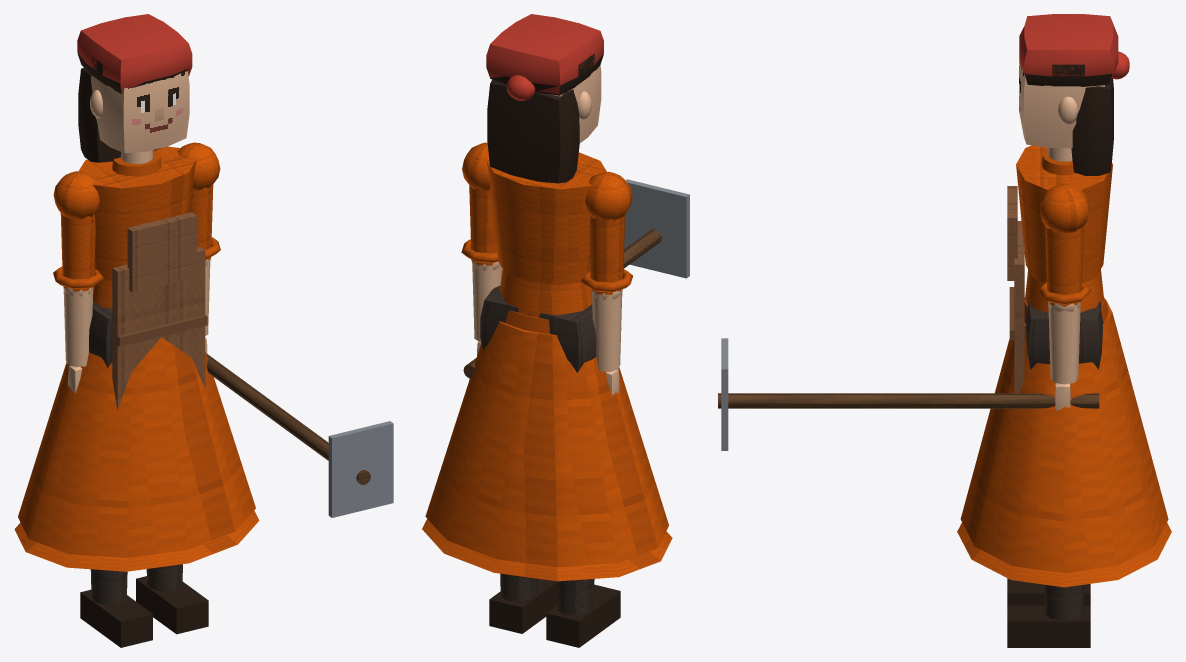
Rendered from ladrillera.glb.
The picture shows the model from 3 angles, left to right: view 1: azimuth 30°, elevation 25°; view 2: azimuth 150°, elevation 25°; view 3: azimuth 270°, elevation 25°; orthographic projection. The views are drawn at different scales.
Visible parts, largest first — view 1: ladrillera, object 32, object 27, object 24, object 5, object 10, object 23, object 13, object 15, object 31, object 12, object 18 (+5 smaller); view 2: ladrillera, object 31, object 32, object 24, object 5, object 13, object 10, object 15, object 12, object 19, object 3, object 21 (+8 smaller); view 3: ladrillera, object 23, object 32, object 31, object 27, object 10, object 19, object 21, object 18, object 30, object 8, object 5 (+1 smaller).
Boxes of the visible parts, bbox=[...] form: ladrillera: bbox=[14, 146, 259, 571]; object 32: bbox=[77, 14, 192, 92]; object 27: bbox=[84, 68, 189, 153]; object 24: bbox=[328, 421, 393, 517]; object 5: bbox=[80, 589, 152, 647]; object 10: bbox=[136, 576, 208, 634]; object 23: bbox=[206, 353, 370, 484]; object 13: bbox=[60, 213, 95, 291]; object 15: bbox=[63, 287, 93, 366]; object 31: bbox=[78, 67, 161, 162]; object 12: bbox=[53, 171, 99, 219]; object 18: bbox=[177, 142, 220, 190]; ladrillera: bbox=[422, 152, 672, 581]; object 31: bbox=[487, 79, 579, 183]; object 32: bbox=[486, 14, 603, 94]; object 24: bbox=[624, 179, 689, 278]; object 5: bbox=[546, 584, 620, 647]; object 13: bbox=[589, 214, 625, 294]; object 10: bbox=[489, 578, 557, 633]; object 15: bbox=[592, 290, 622, 371]; object 12: bbox=[585, 171, 632, 220]; object 19: bbox=[469, 185, 498, 265]; object 3: bbox=[557, 579, 594, 615]; object 21: bbox=[472, 261, 502, 342]; ladrillera: bbox=[957, 145, 1171, 587]; object 23: bbox=[718, 393, 1099, 408]; object 32: bbox=[1019, 14, 1118, 82]; object 31: bbox=[1071, 78, 1113, 175]; object 27: bbox=[1019, 64, 1104, 148]; object 10: bbox=[1007, 605, 1090, 647]; object 19: bbox=[1045, 225, 1083, 306]; object 21: bbox=[1048, 302, 1080, 384]; object 18: bbox=[1040, 183, 1088, 232]; object 30: bbox=[1023, 64, 1112, 86]; object 8: bbox=[1044, 584, 1084, 620]; object 5: bbox=[1007, 578, 1090, 605].
Size of the model in its own units: 0.7205 by 1.8 by 1.24.
15 materials, 6 textured.
